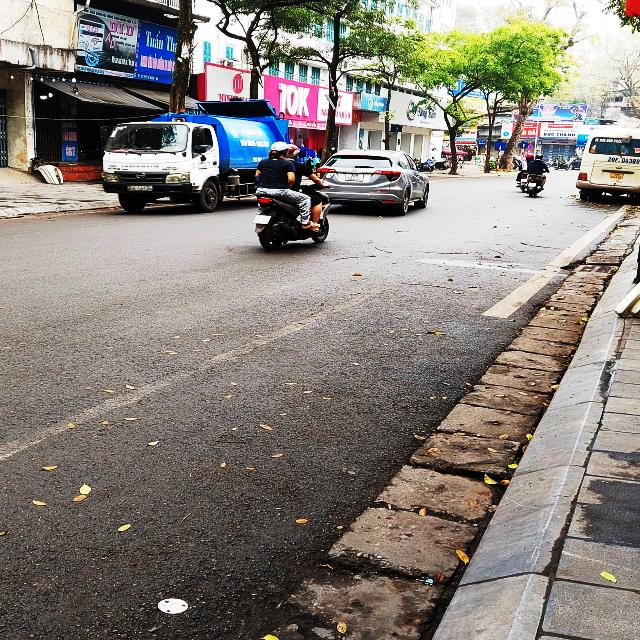license_plate: (253, 216, 273, 225), (346, 174, 365, 183), (128, 186, 154, 192)
